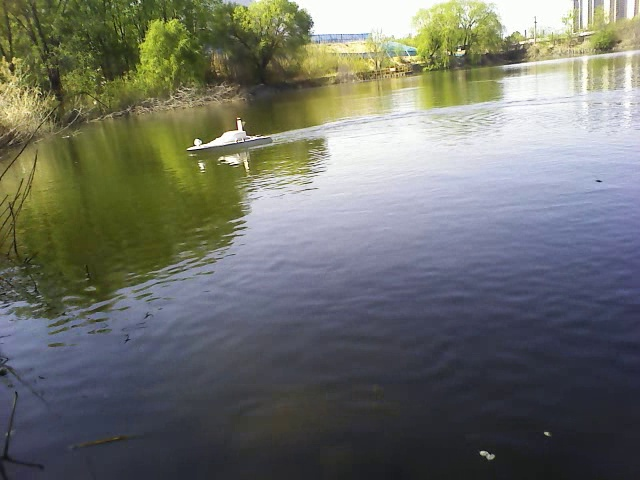boat: (186, 124, 276, 158)
